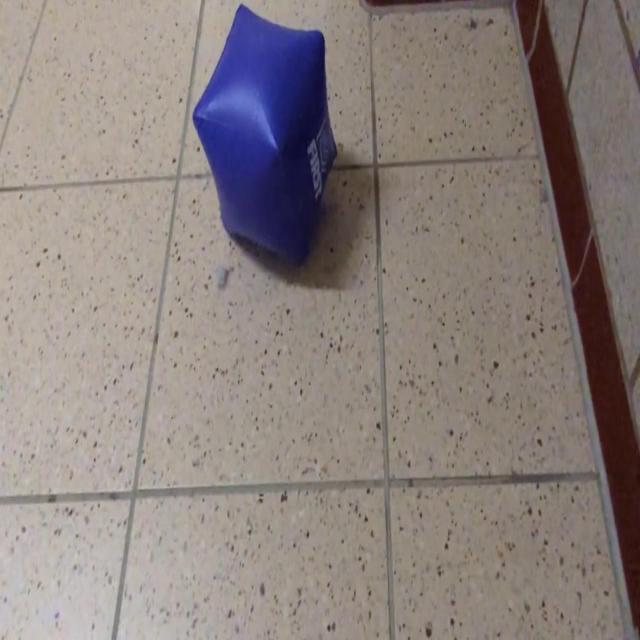frc_cube: (194, 7, 336, 258)
